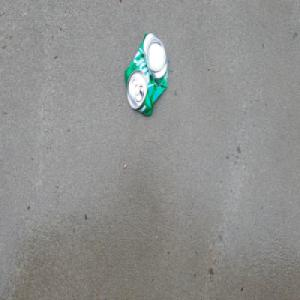SodaCan: (123, 31, 170, 118)
